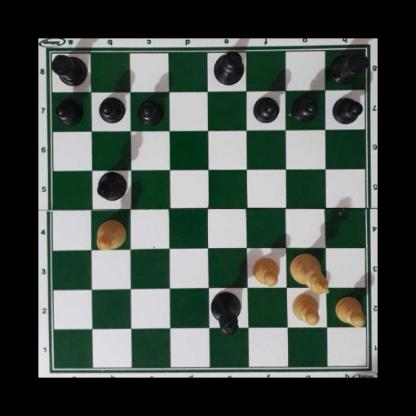black-bishop: (96, 172, 127, 202)
black-king: (213, 50, 246, 87)
black-pawn: (332, 95, 361, 124), (252, 94, 279, 122), (55, 96, 82, 123), (98, 95, 124, 123), (292, 94, 318, 121), (137, 97, 162, 125)
black-queen: (211, 290, 241, 336)
black-rook: (49, 51, 87, 86), (330, 49, 369, 83)
white-bishop: (95, 219, 127, 252)
white-king: (290, 254, 330, 295)
white-pawn: (334, 295, 365, 326), (291, 293, 321, 325), (252, 255, 280, 285)
